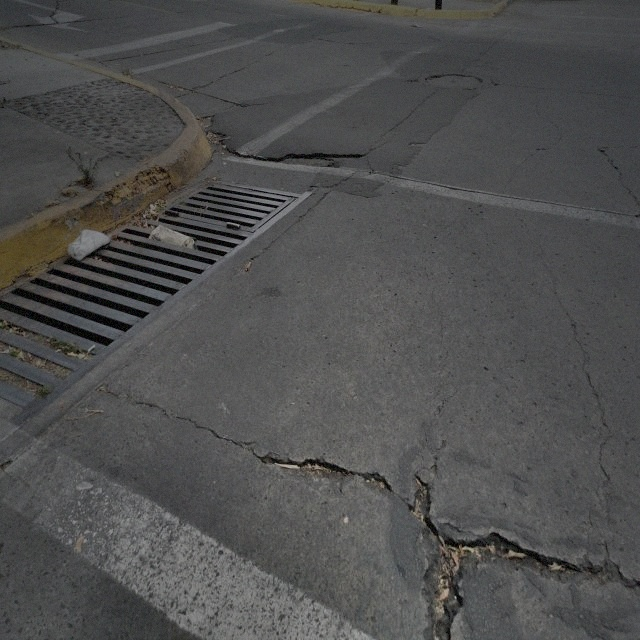pothole: (474, 524, 562, 582), (426, 534, 463, 634), (299, 454, 346, 498), (410, 474, 437, 532), (359, 468, 390, 494)
